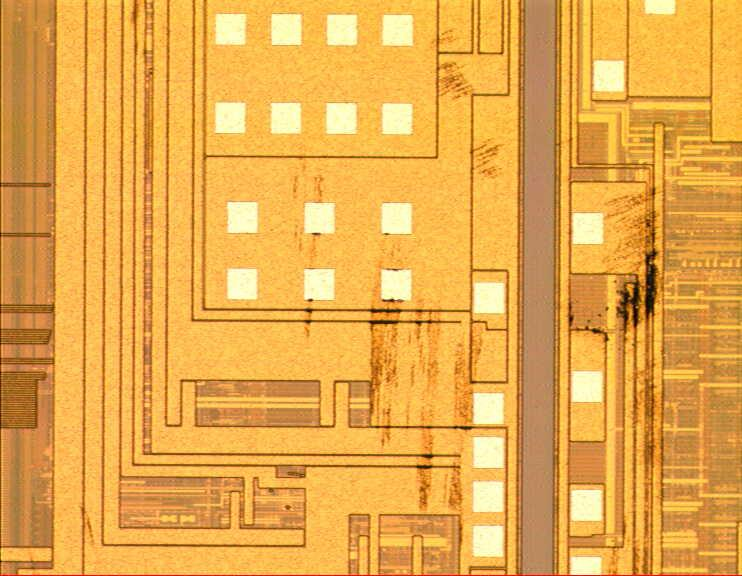SCRATCH: (284, 2, 674, 576)
